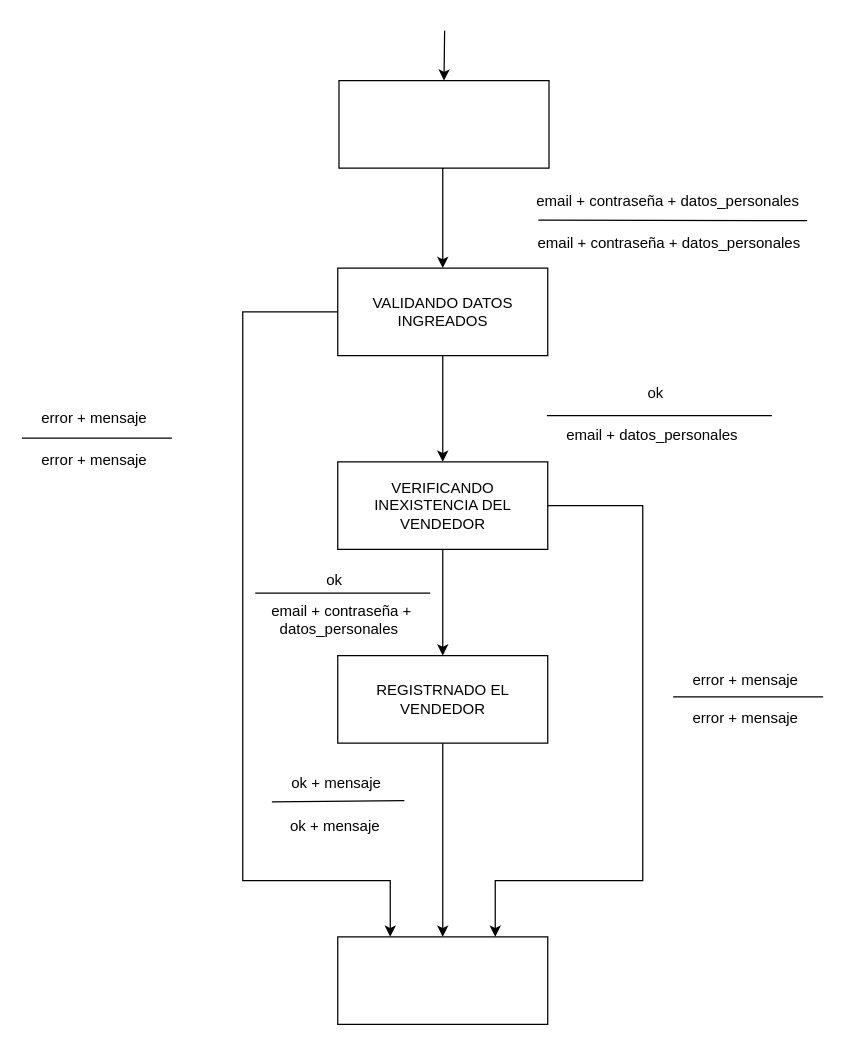
Image size: 858x1046. Some labels were removed from this diagram. Each missing label, with the centre of its shape:
FINALIZADO: the point at 442,980
INICIADO: the point at 443,123
